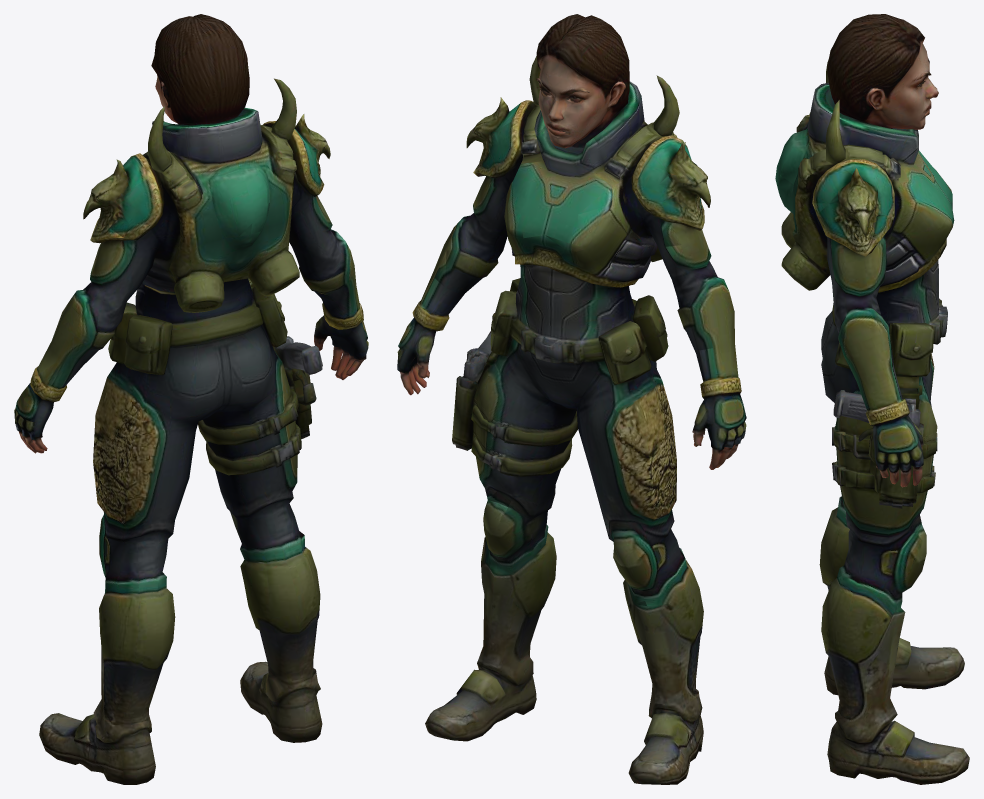
Rendered from packer_escort.glb.
3 views of the same model, side by side, from view 1: azimuth 30°, elevation 25°; view 2: azimuth 150°, elevation 25°; view 3: azimuth 270°, elevation 25° (orthographic). The views are drawn at different scales.
Visible parts, largest first — view 1: Body, Trim; view 2: Body, Trim; view 3: Body, Trim.
Part boxes in pixels (x1,y1,x2,y2): Body: (14,14,368,784); Trim: (15,107,344,593); Body: (397,14,746,784); Trim: (435,103,743,605); Body: (778,14,969,784); Trim: (775,119,953,596).
Size of the model in its own units: 0.8982 by 1.8 by 0.4474.
Materials: 2 (2 with a texture image).
